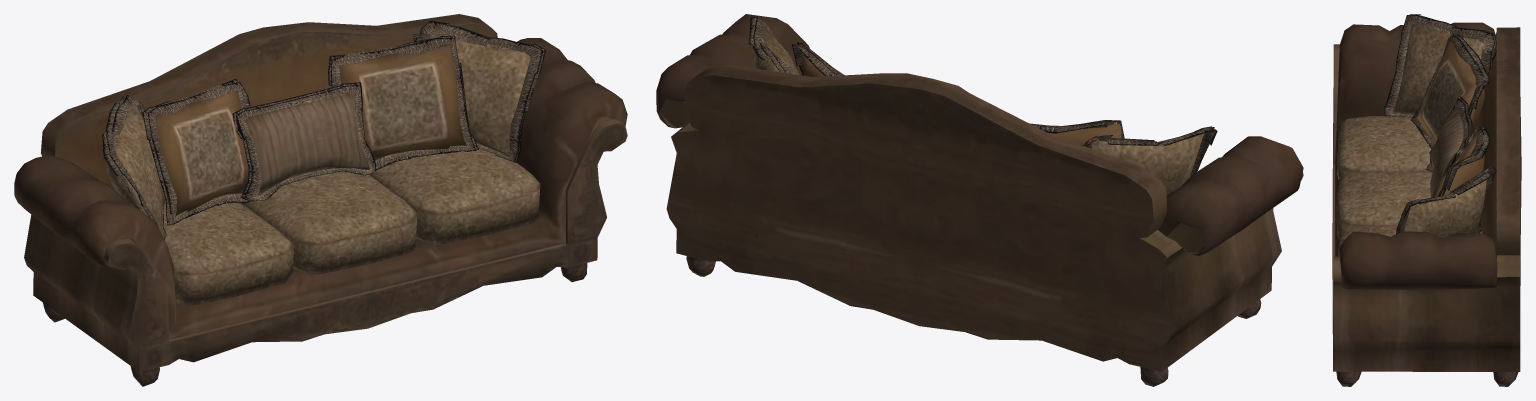
Rendered from sofa_03.glb.
The picture shows the model from 3 angles, left to right: view 1: azimuth 30°, elevation 25°; view 2: azimuth 150°, elevation 25°; view 3: azimuth 270°, elevation 25°; orthographic projection. The views are drawn at different scales.
Parts seen in each view (by area): view 1: sofa_03; view 2: sofa_03; view 3: sofa_03.
Boxes of the visible parts, box(x1,y1,x2,y2) form: sofa_03: box(14, 14, 627, 386); sofa_03: box(656, 14, 1303, 386); sofa_03: box(1332, 14, 1521, 386).
Bounding box in the file's own units: 2.72 × 1.12 × 0.9237.
2 materials, 2 textured.
